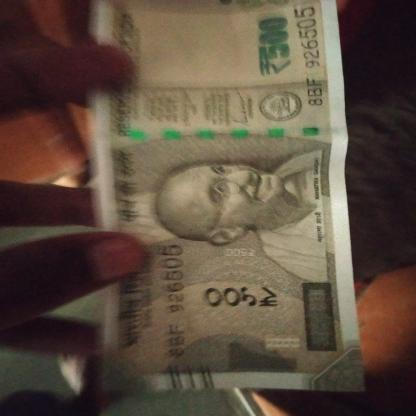New500Front: (106, 9, 335, 388)
